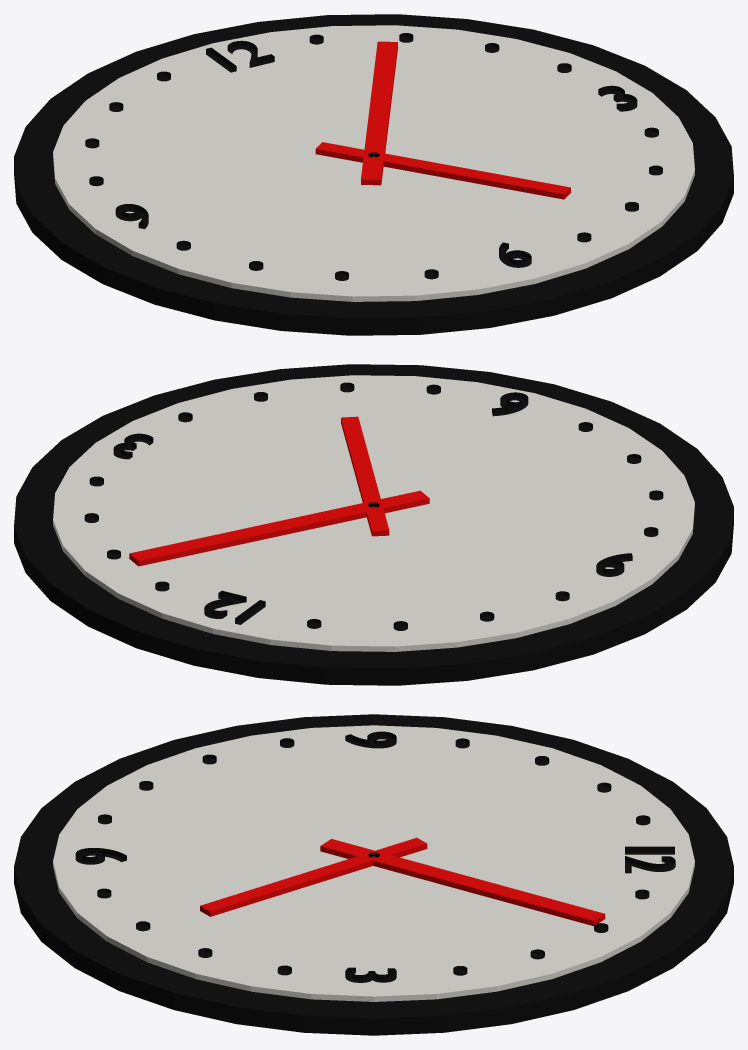
Rendered from Clock.fbx.
3 renders of one model, top to bottom at view 1: azimuth 30°, elevation 25°; view 2: azimuth 150°, elevation 25°; view 3: azimuth 270°, elevation 25°, orthographic.
Parts seen in each view (by area): view 1: Clock-v2; view 2: Clock-v2; view 3: Clock-v2.
Boxes of the visible parts, <box> form: Clock-v2: <box>14,14,733,335</box>; Clock-v2: <box>14,364,733,685</box>; Clock-v2: <box>14,714,733,1035</box>.
Size of the model in its own units: 3340 by 190 by 3340.
